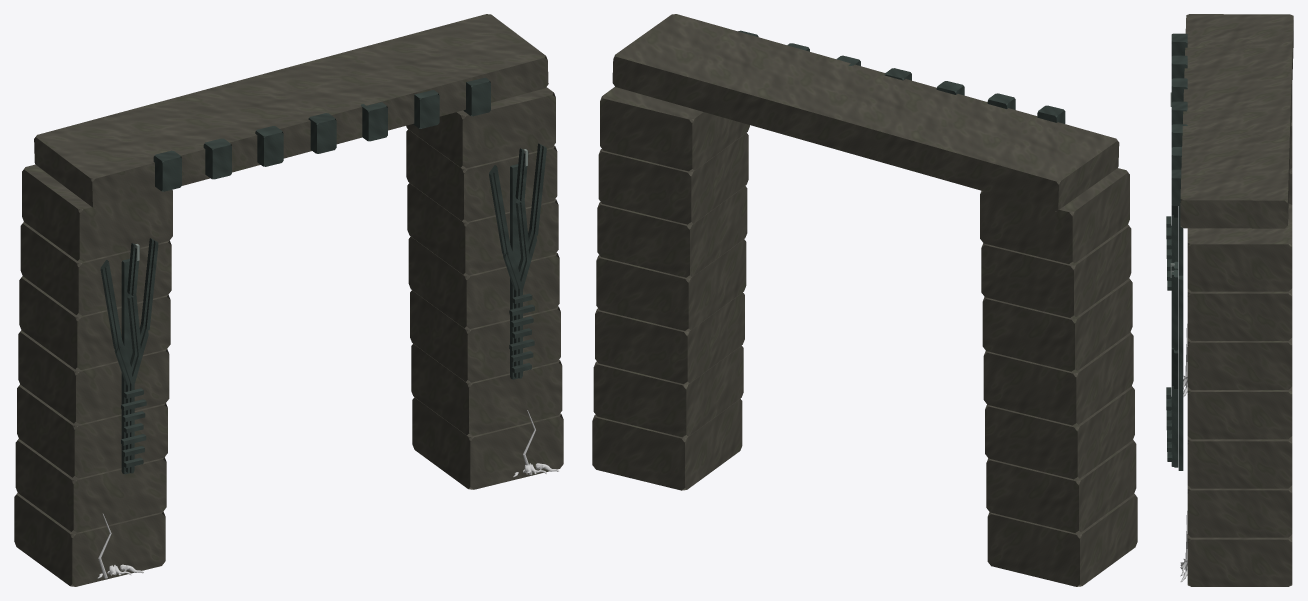
File: cataclysm_forge_threshold-lod1.gltf
3 views of the same model, side by side, from view 1: azimuth 30°, elevation 25°; view 2: azimuth 150°, elevation 25°; view 3: azimuth 270°, elevation 25° (orthographic). The views are drawn at different scales.
Visible parts, largest first — view 1: cataclysm_forge_threshold LOD1 cataclysm_forge_threshold; view 2: cataclysm_forge_threshold LOD1 cataclysm_forge_threshold; view 3: cataclysm_forge_threshold LOD1 cataclysm_forge_threshold, cataclysm_forge_threshold LOD1 cataclysm_forge_threshold roo.
Part boxes in pixels (box(x1,y1,x2,y2)): cataclysm_forge_threshold LOD1 cataclysm_forge_threshold: box(14, 14, 563, 586); cataclysm_forge_threshold LOD1 cataclysm_forge_threshold: box(592, 14, 1137, 586); cataclysm_forge_threshold LOD1 cataclysm_forge_threshold: box(1166, 14, 1293, 586); cataclysm_forge_threshold LOD1 cataclysm_forge_threshold roo: box(1185, 323, 1187, 569).
Bounding box in the file's own units: 3.53 × 2.88 × 0.8775.
